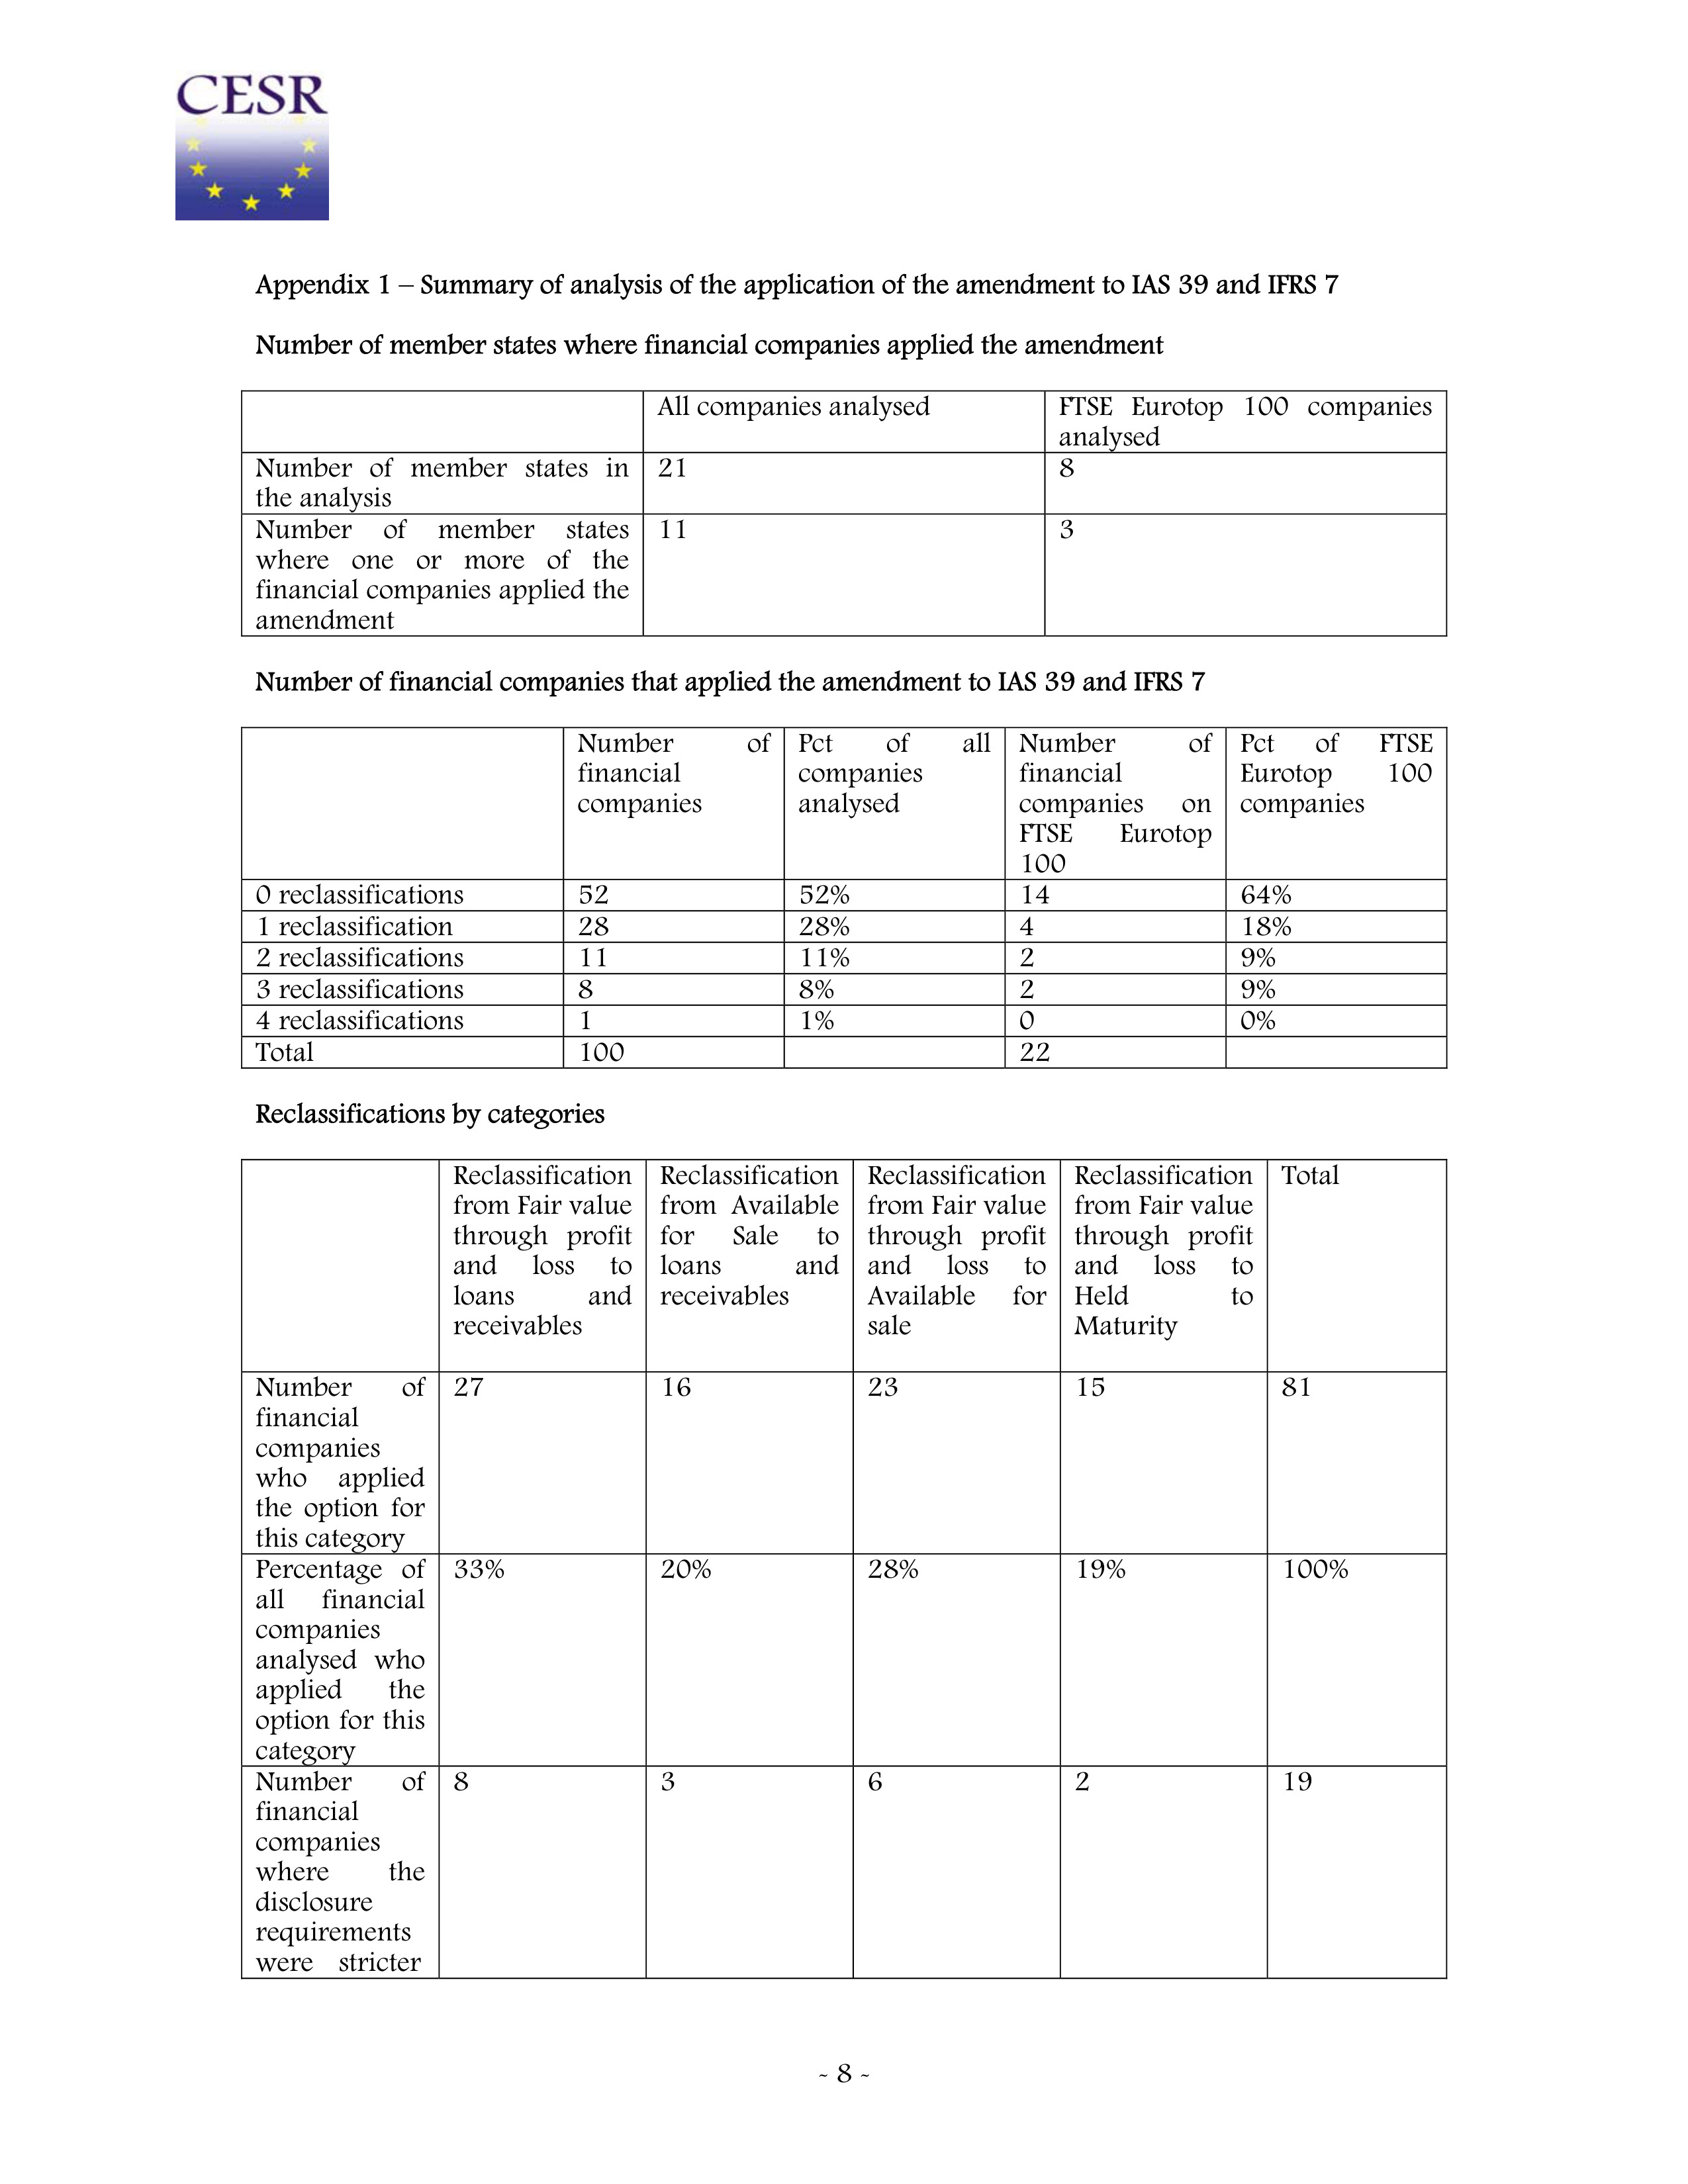table: (255, 1163, 1348, 1978), (255, 730, 1433, 1067), (255, 394, 1433, 635)
